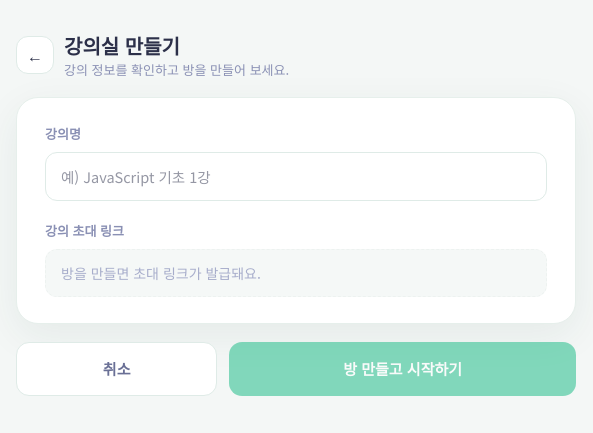
Test: CreateSetupScreen › 입력한 강의명으로 방을 만들고 서버가 발급한 초대 링크를 보여준다
This screenshot has width=593, height=433.
Type "  JavaScript 기초 1강  " into the field labelled "강의명".
click(296, 176); type("  JavaScript 기초 1강  ")  # box [45,152,547,201]
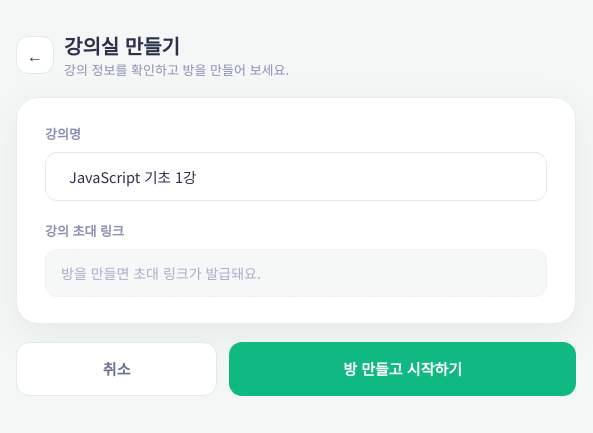
Click the button "방 만들고 시작하기".
click(403, 369)  # box [229,342,576,396]
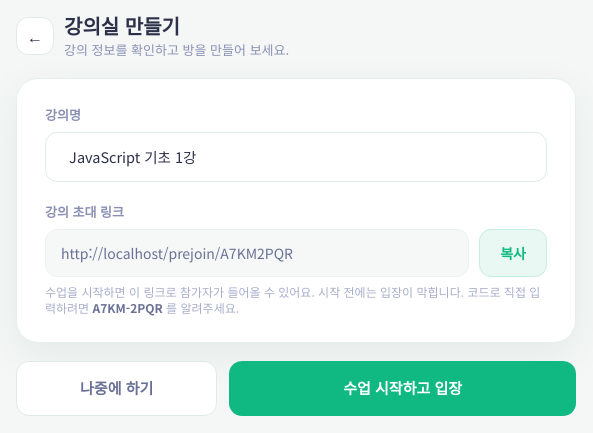
expect the text "http://localhost/prejoin/A7KM2PQR" is shown: met, box [45,229,469,277]
expect the text "A7KM-2PQR" is shown: met, box [92,299,163,316]
